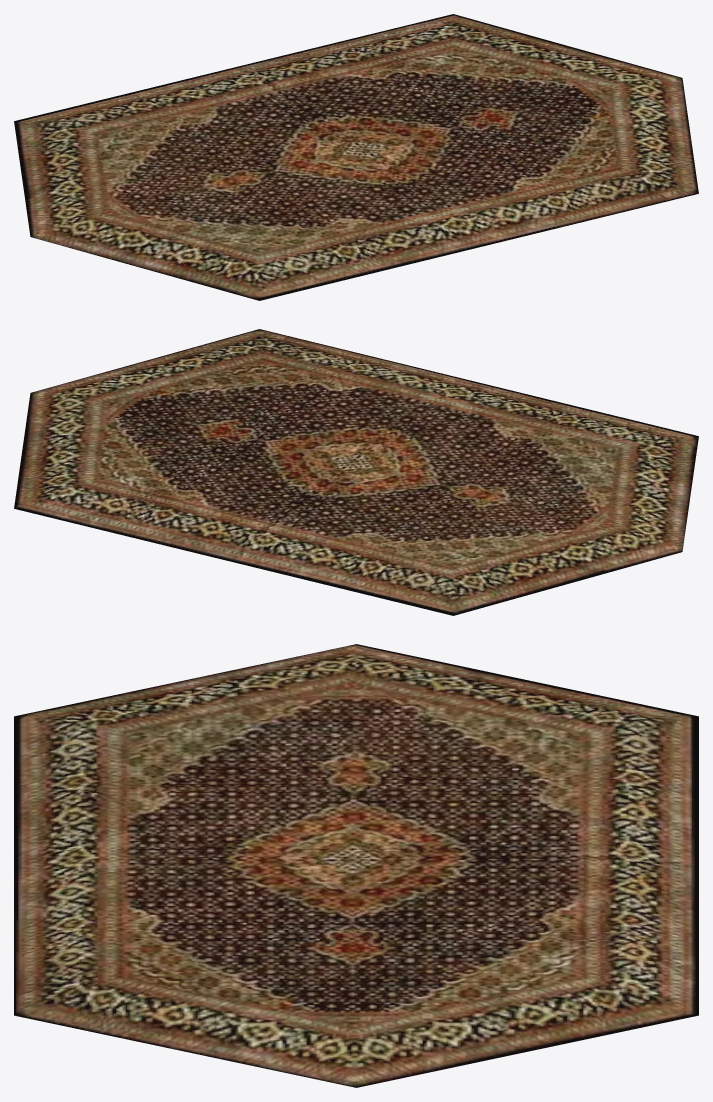
Rendered from NW_CITY_CARPET_02.glb.
3 renders of one model, top to bottom at view 1: azimuth 30°, elevation 25°; view 2: azimuth 150°, elevation 25°; view 3: azimuth 270°, elevation 25°, orthographic. The views are drawn at different scales.
Parts seen in each view (by area): view 1: Mesh; view 2: Mesh; view 3: Mesh.
Boxes of the visible parts, left/top/right/bottom form: Mesh: left=14, top=14, right=698, bottom=300; Mesh: left=14, top=329, right=698, bottom=615; Mesh: left=14, top=644, right=698, bottom=1087.
Size of the model in its own units: 4.6 by 0.05 by 3.
1 material, 1 textured.
